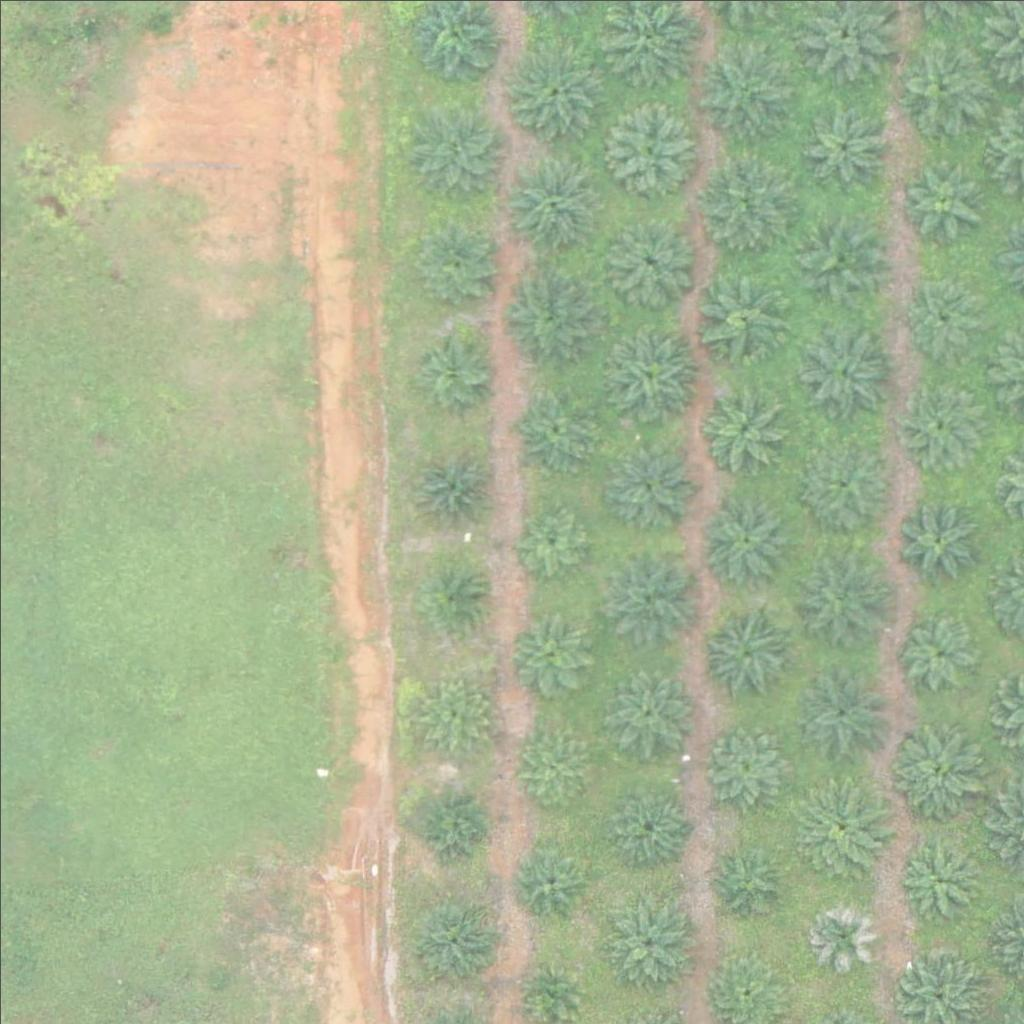Kelapa_Sawit: (786, 778, 886, 879), (603, 544, 703, 645), (698, 713, 798, 814), (698, 603, 798, 704), (792, 663, 892, 764), (789, 210, 889, 311), (694, 157, 794, 258), (689, 36, 789, 137), (598, 97, 698, 198), (496, 152, 596, 253), (503, 41, 603, 142), (500, 264, 600, 364), (600, 325, 700, 425), (694, 268, 794, 368), (789, 548, 889, 648), (794, 321, 894, 421), (884, 720, 984, 820), (893, 37, 993, 137), (600, 778, 688, 867), (604, 213, 692, 302), (701, 839, 789, 927), (410, 321, 498, 409), (410, 893, 498, 981), (507, 384, 595, 472), (605, 665, 693, 753), (606, 440, 694, 528), (893, 603, 981, 691), (799, 100, 887, 188), (510, 612, 597, 700), (407, 440, 494, 528), (604, 893, 691, 981), (702, 492, 789, 580), (699, 381, 786, 469), (799, 432, 886, 520), (411, 220, 498, 308), (411, 105, 498, 193), (899, 841, 974, 917), (897, 498, 972, 574), (899, 387, 974, 463), (902, 164, 977, 240), (509, 841, 584, 916), (511, 499, 586, 574), (419, 678, 494, 753), (412, 786, 487, 861), (803, 895, 878, 970), (517, 730, 592, 805), (907, 273, 982, 348), (426, 567, 489, 630), (519, 958, 582, 1021)
